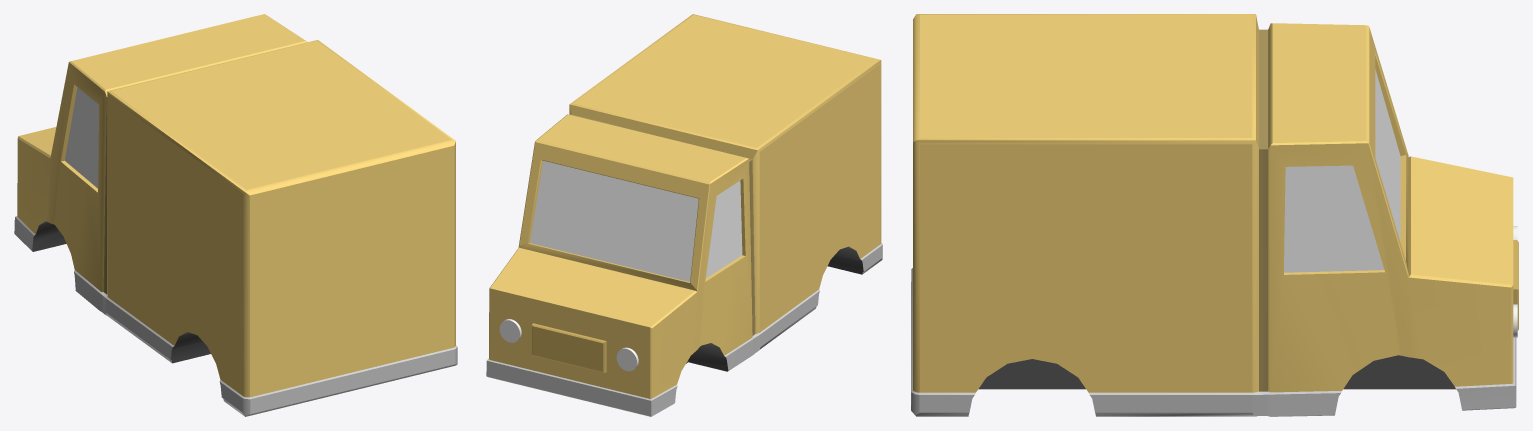
Rendered from Truck.dae.
The picture shows the model from 3 angles, left to right: view 1: azimuth 30°, elevation 25°; view 2: azimuth 150°, elevation 25°; view 3: azimuth 270°, elevation 25°; orthographic projection. The views are drawn at different scales.
Parts seen in each view (by area): view 1: BodyFull; view 2: BodyFull; view 3: BodyFull.
Boxes of the visible parts, box(x1,y1,x2,y2) form: BodyFull: box(14, 14, 457, 416); BodyFull: box(486, 14, 882, 416); BodyFull: box(911, 14, 1518, 416).
Bounding box in the file's own units: 153 × 153 × 305.
